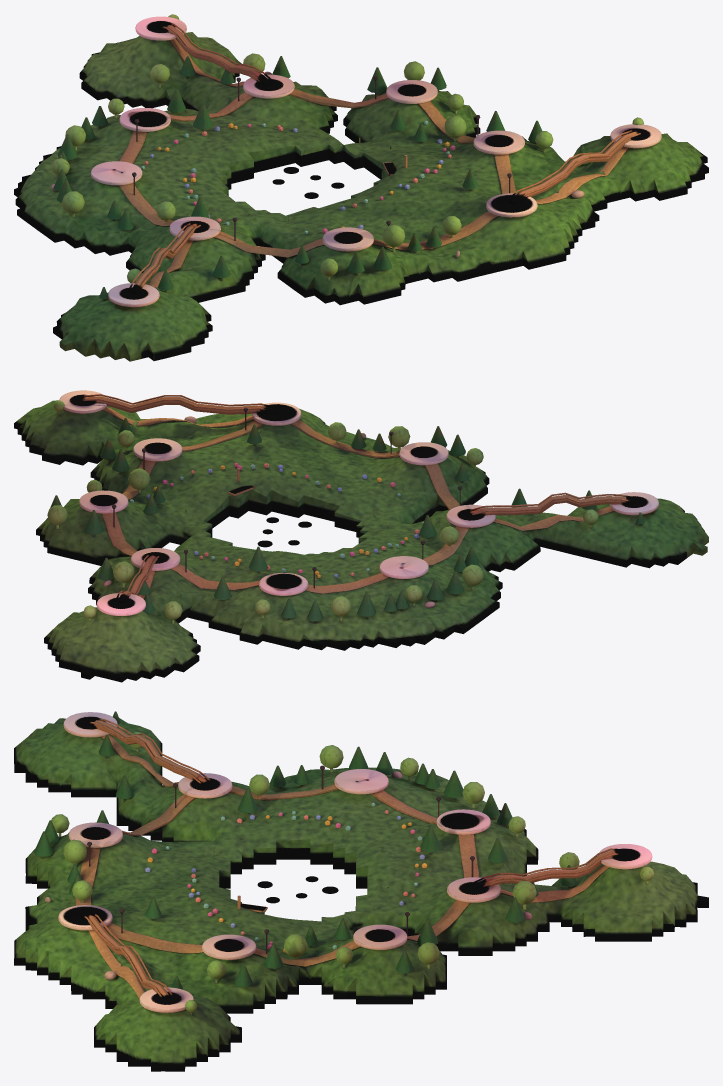
Rendered from terrain-day.glb.
3 views of the same model, one above another, from view 1: azimuth 30°, elevation 25°; view 2: azimuth 150°, elevation 25°; view 3: azimuth 270°, elevation 25° (orthographic). The views are drawn at different scales.
Visible parts, largest first — view 1: terrain_day; view 2: terrain_day; view 3: terrain_day.
Boxes of the visible parts, x1=… form: terrain_day: x1=14, y1=14, x2=708, y2=361; terrain_day: x1=14, y1=390, x2=708, y2=682; terrain_day: x1=14, y1=711, x2=708, y2=1071.
Bounding box in the file's own units: 15.74 × 1.22 × 13.34.
Materials: 1 (1 with a texture image).
